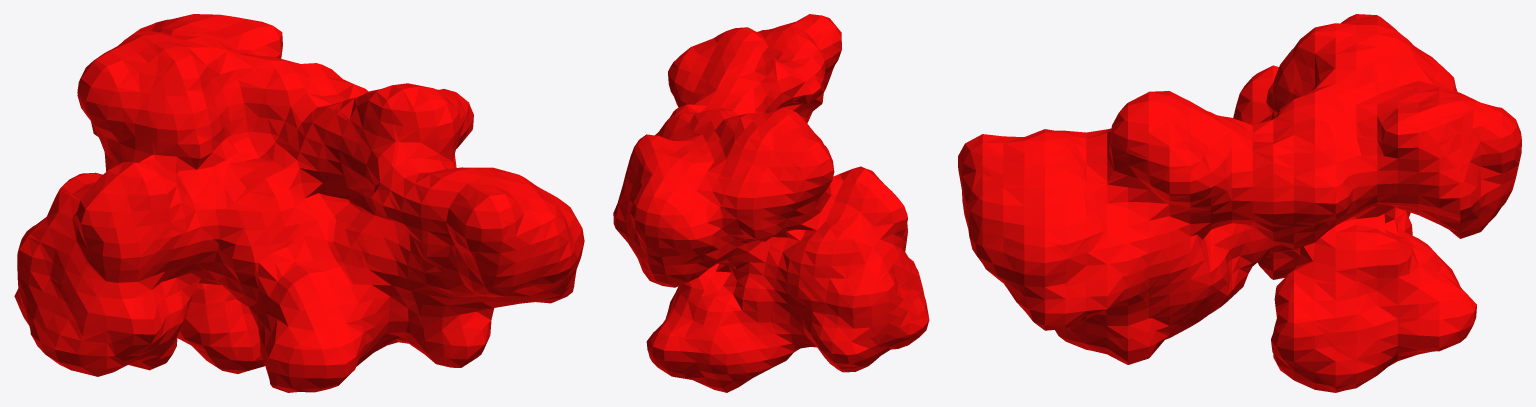
The model's file is yhgF_coarse.dae.
3 renders of one model, left to right at view 1: azimuth 30°, elevation 25°; view 2: azimuth 150°, elevation 25°; view 3: azimuth 270°, elevation 25°, orthographic. The views are drawn at different scales.
Visible parts, largest first — view 1: yhgF; view 2: yhgF; view 3: yhgF.
Boxes of the visible parts, bbox=[...] form: yhgF: bbox=[14, 14, 584, 392]; yhgF: bbox=[613, 14, 929, 392]; yhgF: bbox=[958, 14, 1521, 392].
Size of the model in its own units: 88.12 by 69.58 by 110.
